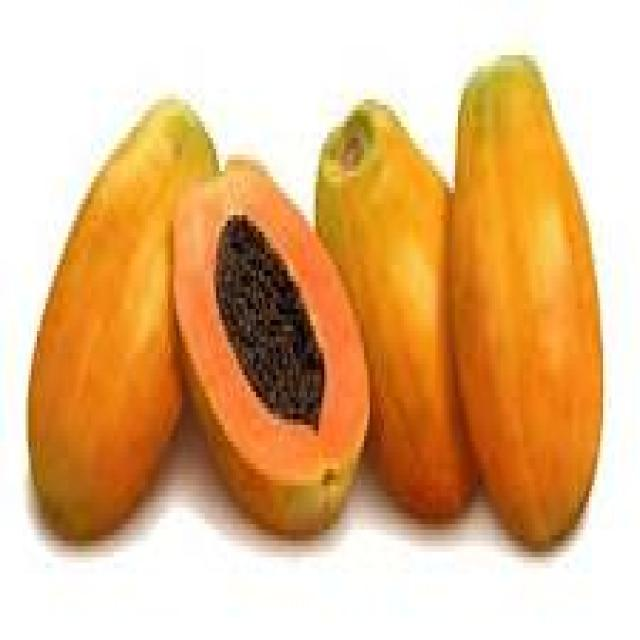papaya: (26, 28, 603, 568)
